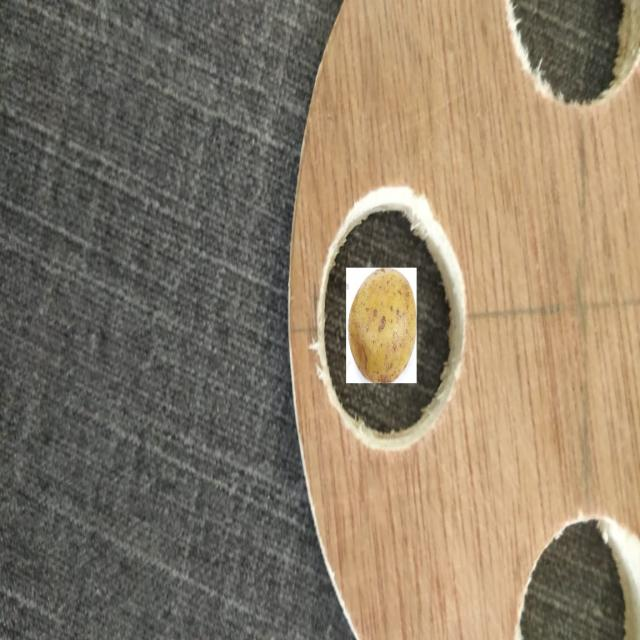potato: (351, 272, 416, 384)
